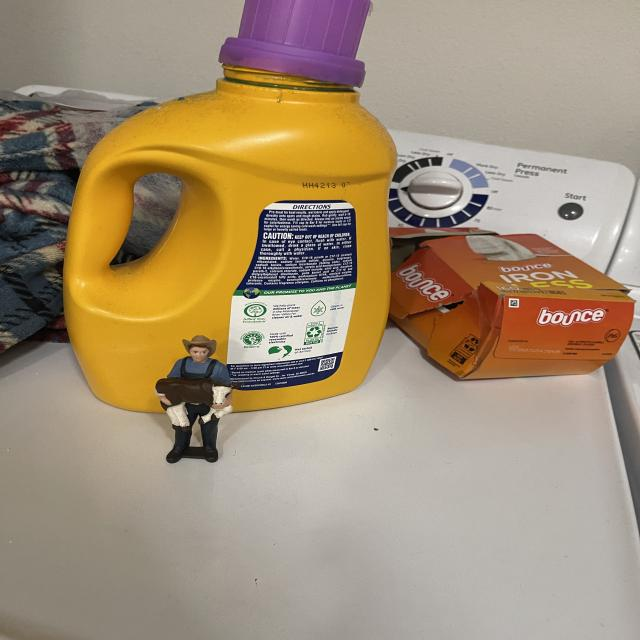cow: (155, 377, 234, 406)
person: (163, 383, 234, 473), (169, 332, 236, 385), (155, 392, 172, 410)
